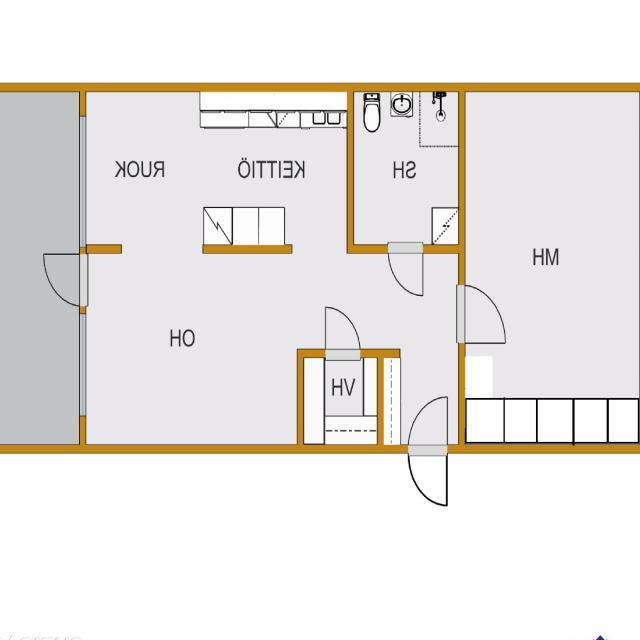door: (458, 285, 508, 343), (408, 444, 448, 505), (408, 392, 448, 453), (42, 254, 86, 306), (389, 244, 423, 300), (326, 302, 360, 357)
